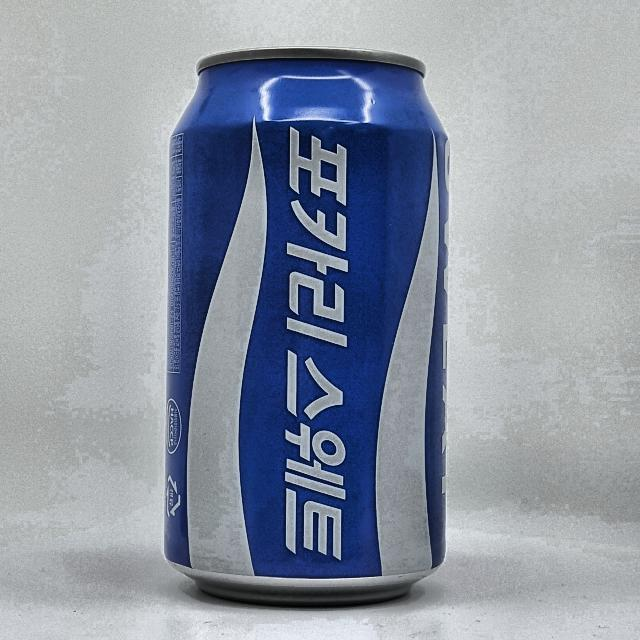pocarisweat: (165, 48, 449, 606)
